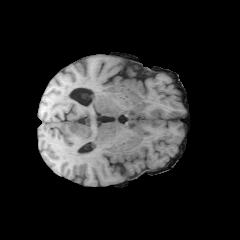glioma: (67, 123, 137, 156)
